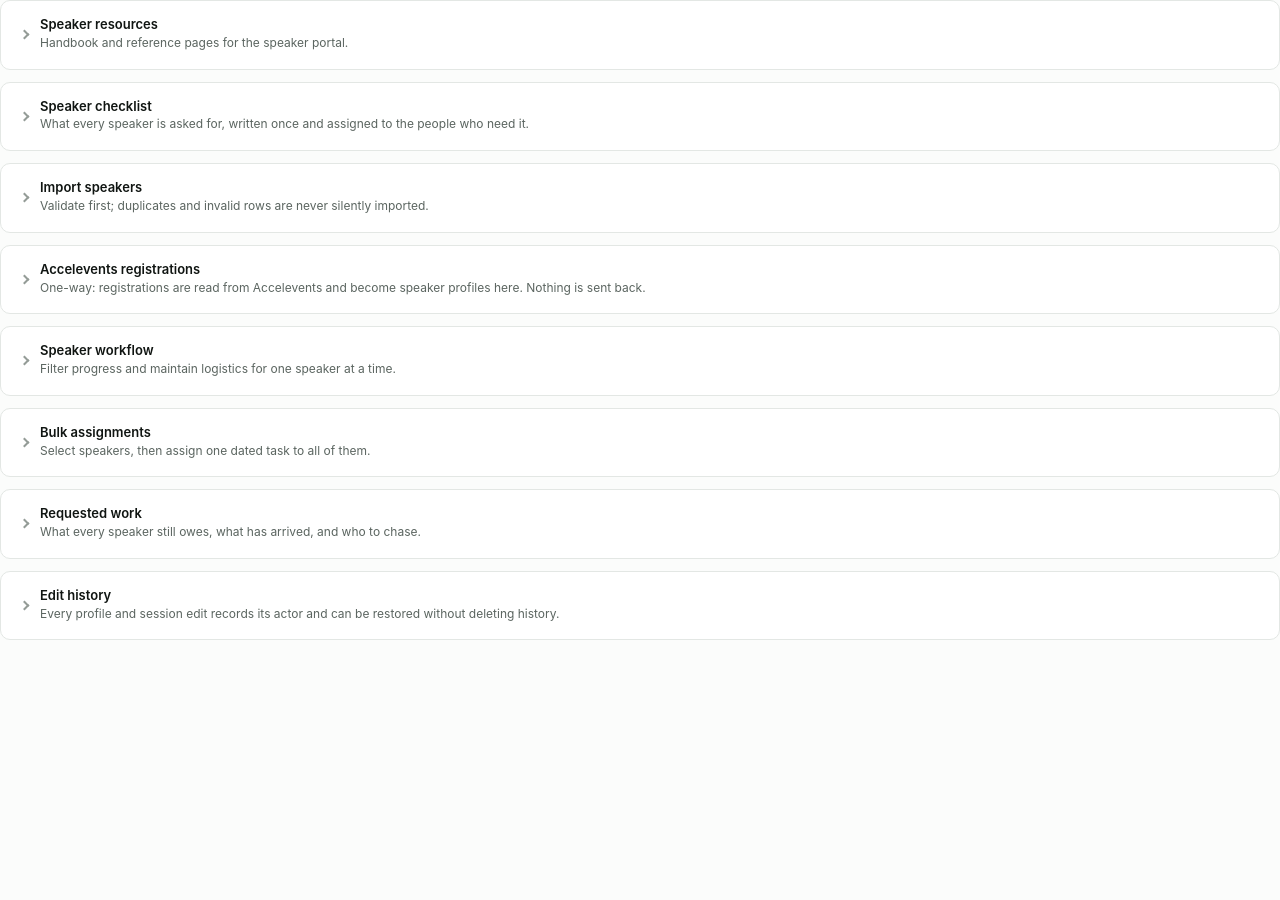
Test case: the organizer's tool panels › names the person an audit row was written by, not the id it stores them under
Click the heading that starts with "Edit history".
click(300, 604)  # box [40,587,560,621]
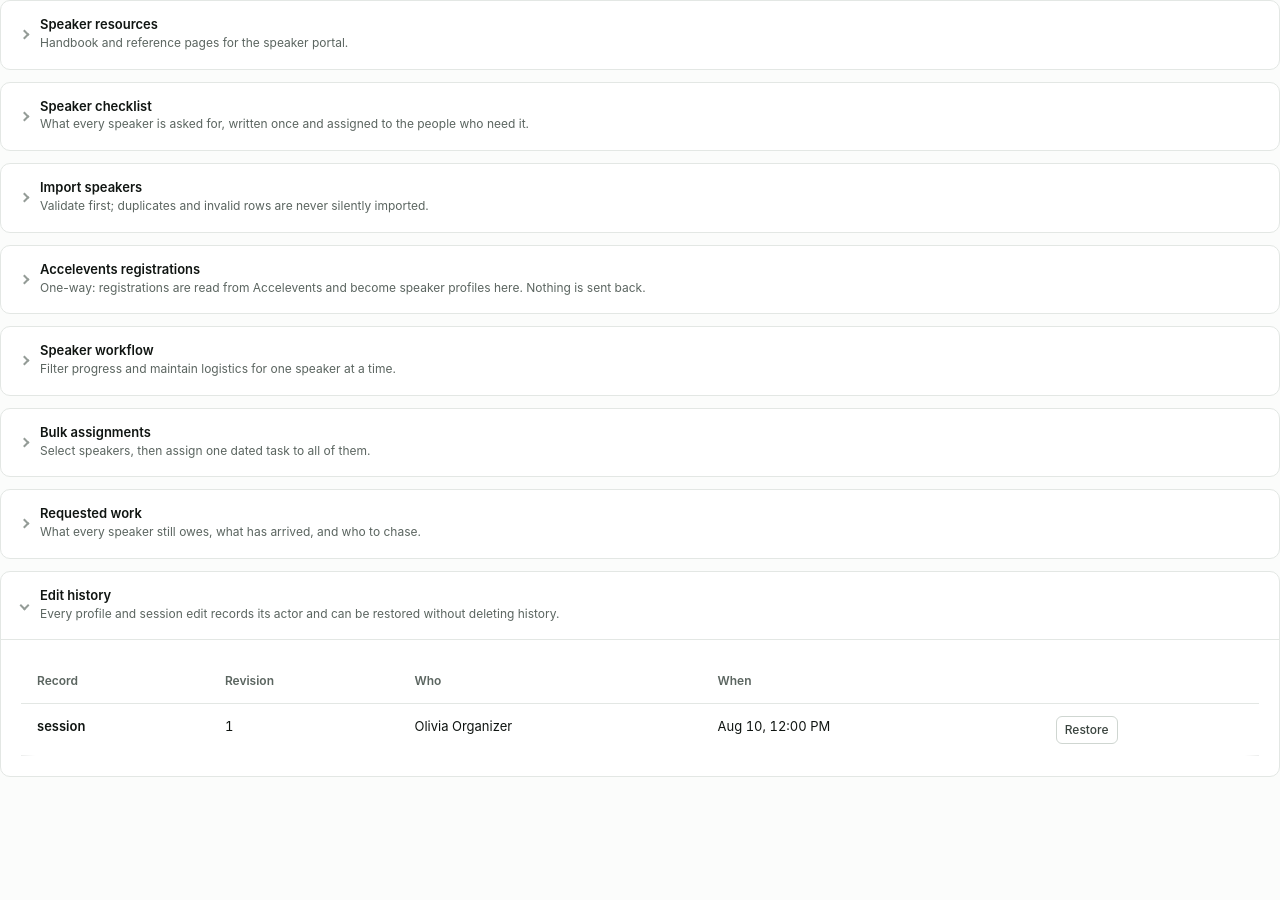
Check: the text "Olivia Organizer" is shown, box [398,703,702,756]
